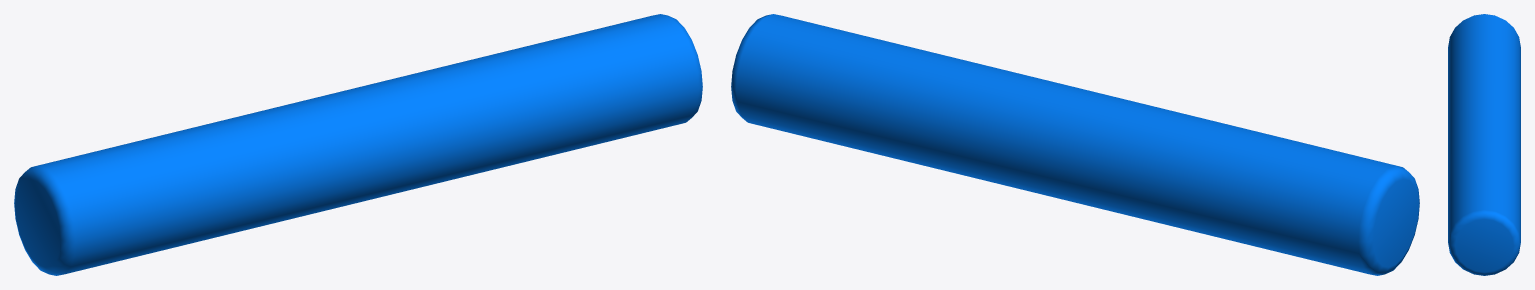
Rendered from weaponProgress.fbx.
3 renders of one model, left to right at view 1: azimuth 30°, elevation 25°; view 2: azimuth 150°, elevation 25°; view 3: azimuth 270°, elevation 25°, orthographic. The views are drawn at different scales.
Visible parts, largest first — view 1: weapon_0; view 2: weapon_0; view 3: weapon_0.
Boxes of the visible parts, box(x1,y1,x2,y2) form: weapon_0: box(14, 14, 702, 275); weapon_0: box(731, 14, 1419, 275); weapon_0: box(1448, 14, 1520, 275).
Size of the model in its own units: 33.27 by 5.08 by 5.08.
